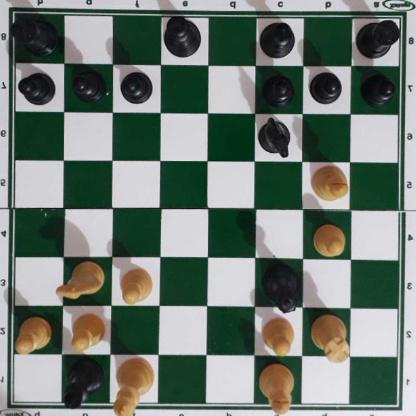black-bishop: (63, 357, 103, 408), (258, 21, 299, 58)
black-king: (163, 14, 204, 57)
black-knight: (258, 116, 293, 158)
black-pawn: (20, 69, 56, 105), (121, 68, 153, 103), (363, 71, 396, 104), (73, 67, 105, 101), (312, 70, 343, 104), (264, 71, 295, 105)
black-queen: (260, 260, 300, 316)
black-rook: (356, 16, 404, 58), (11, 14, 58, 55)
white-bishop: (259, 363, 296, 414), (312, 164, 350, 201)
white-king: (113, 357, 156, 416)
white-knight: (55, 259, 106, 300)
white-pawn: (70, 312, 107, 353), (16, 315, 53, 352), (262, 316, 296, 356), (119, 266, 154, 304), (313, 222, 348, 256)
white-rook: (311, 311, 351, 363)
